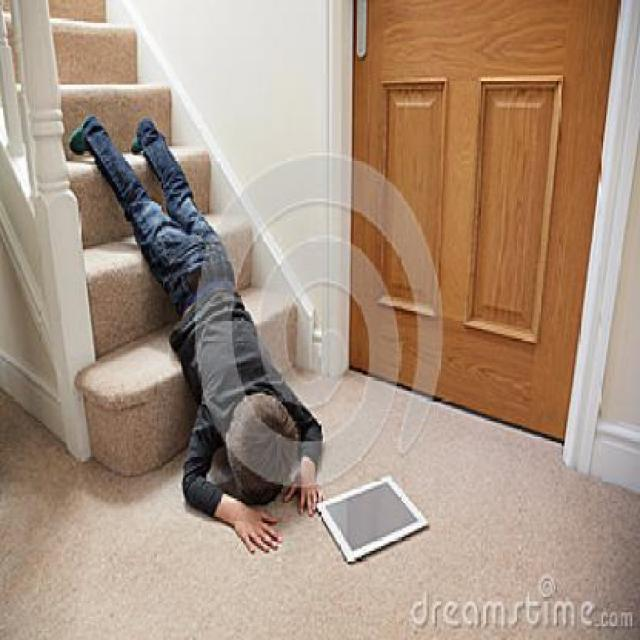fall: (61, 92, 354, 553)
